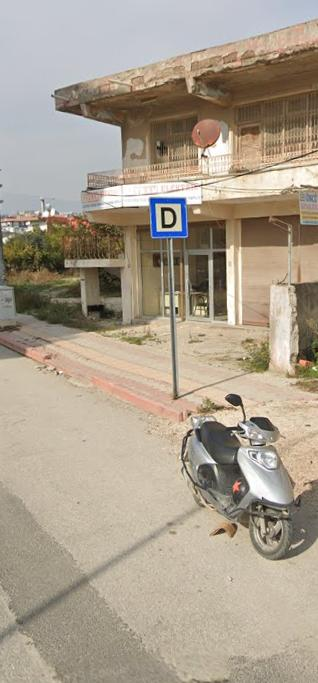station: (150, 198, 187, 237)
